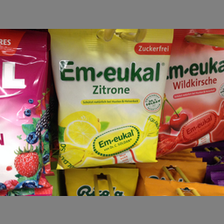candy: (50, 30, 159, 168), (163, 27, 223, 155)
